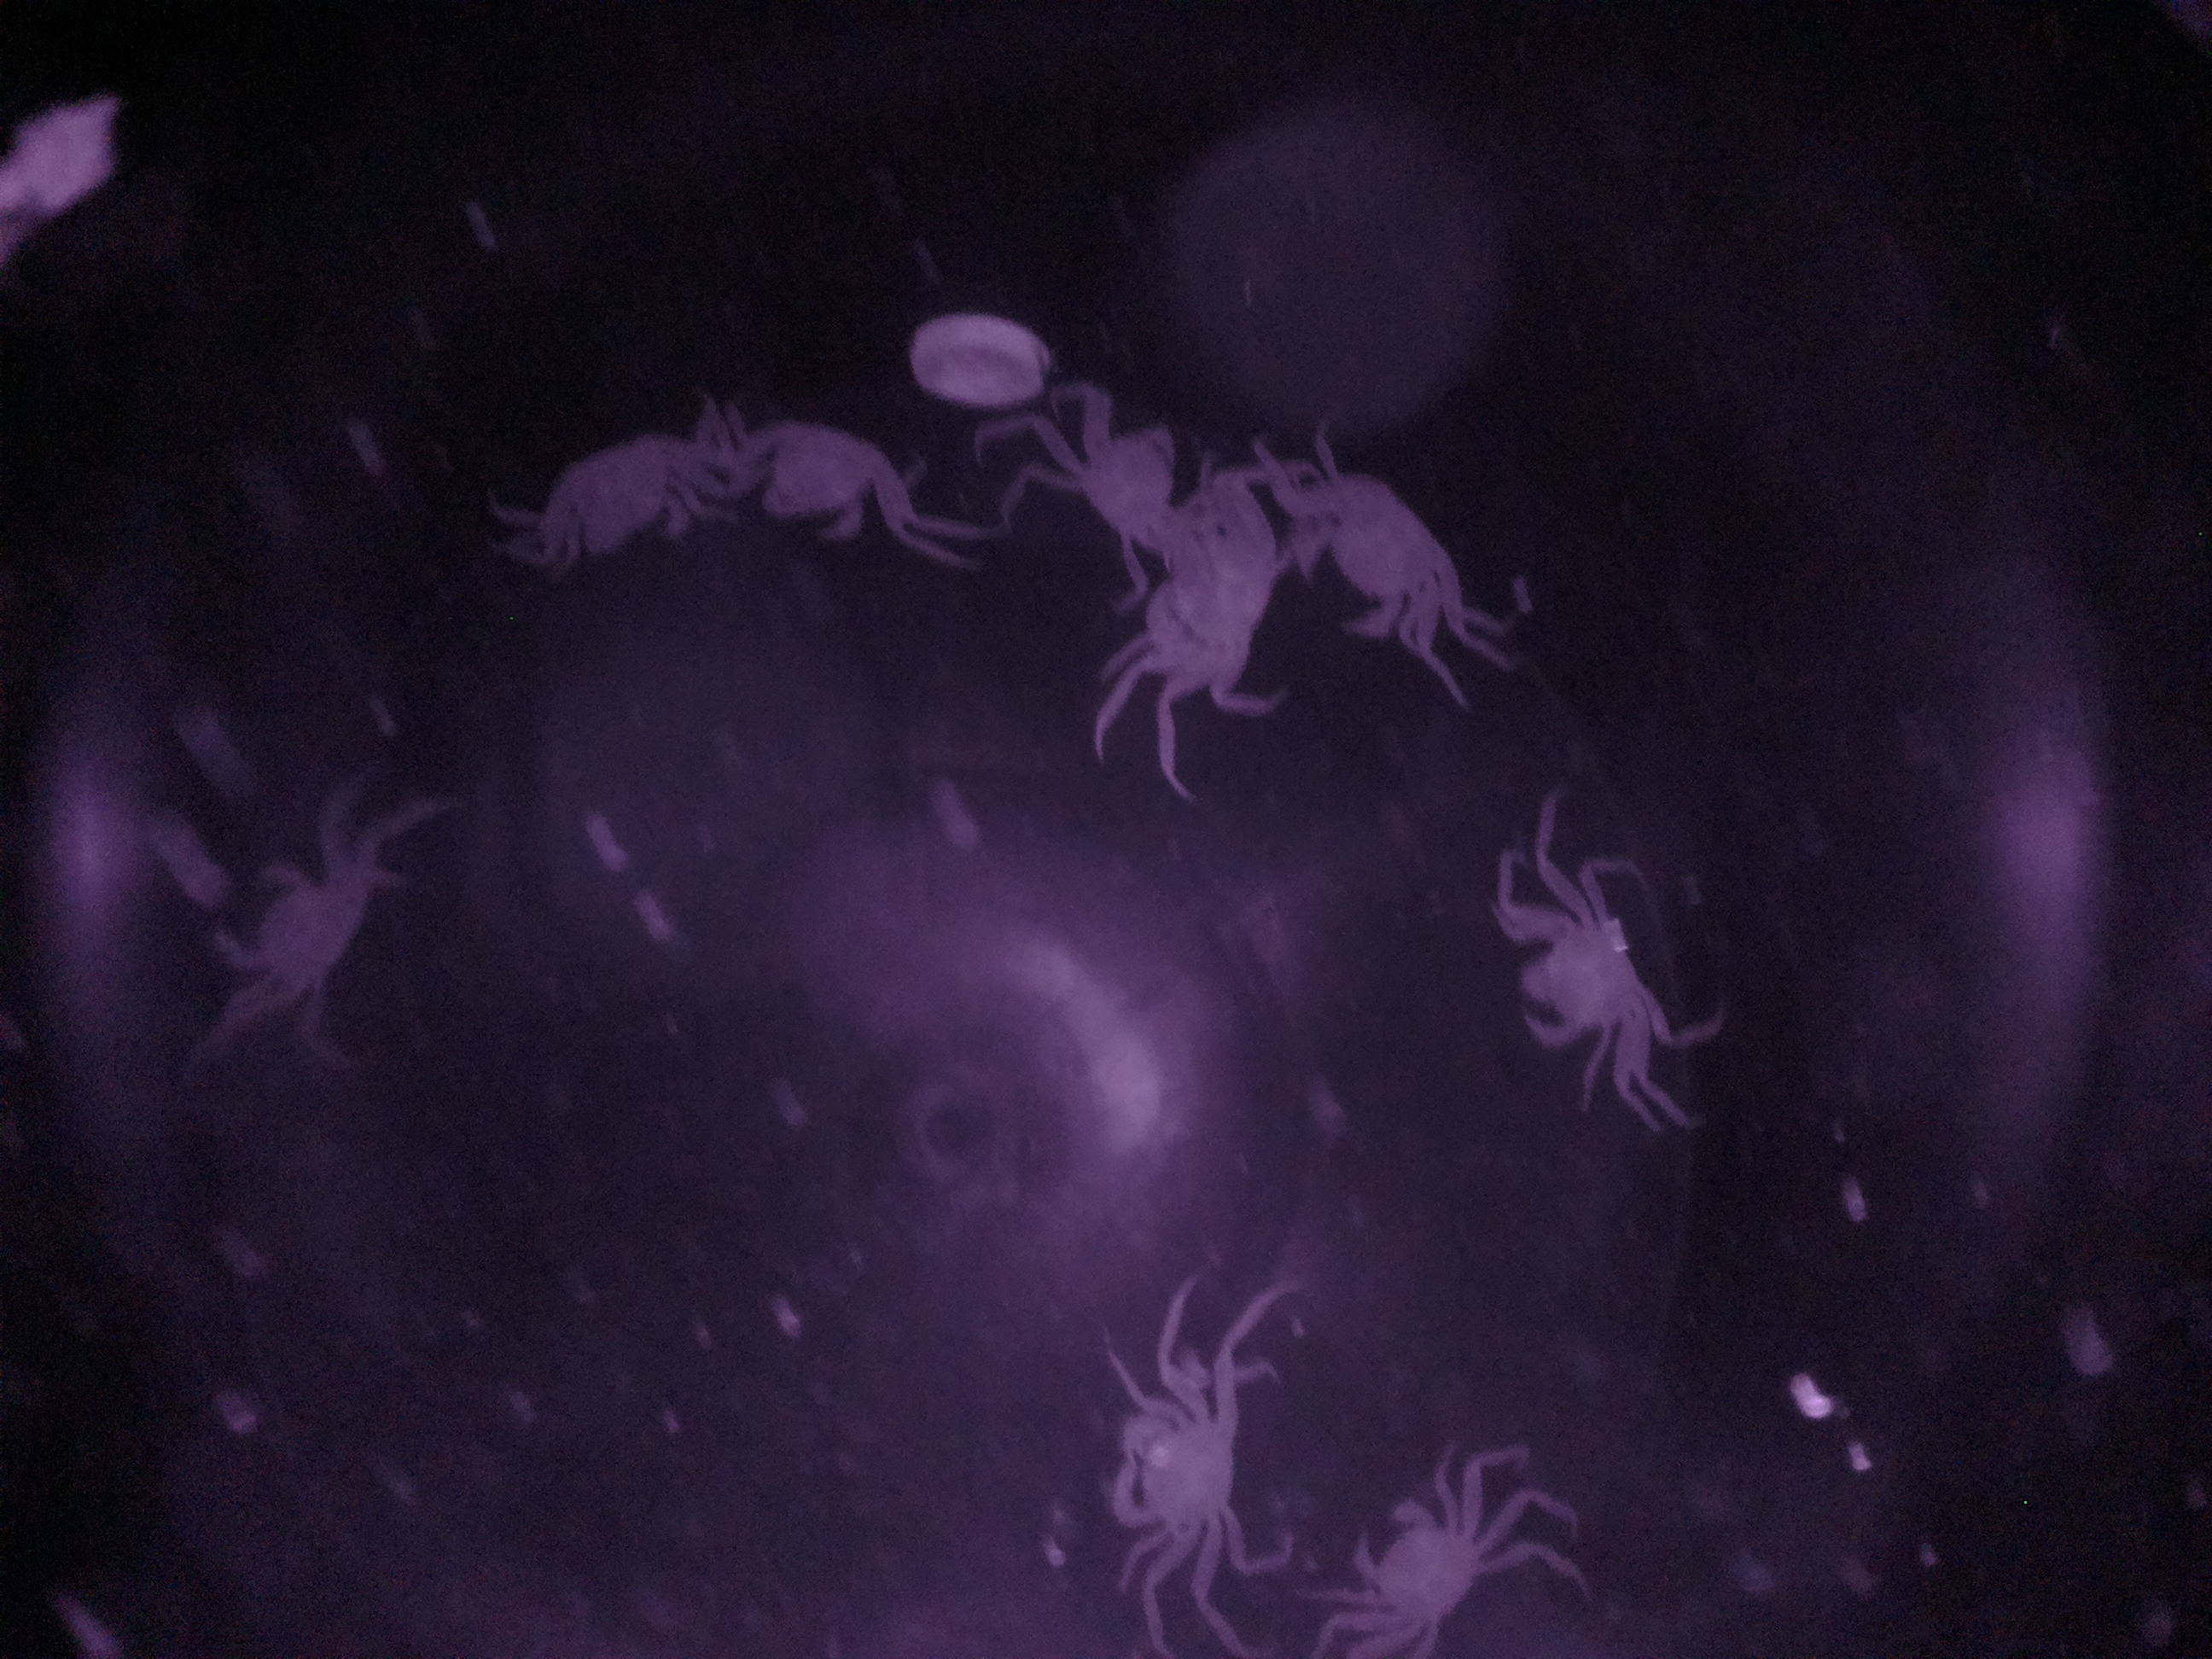Crab: (1282, 437, 1489, 652), (1503, 859, 1676, 1115), (1080, 1356, 1254, 1568), (1329, 1457, 1500, 1647)
